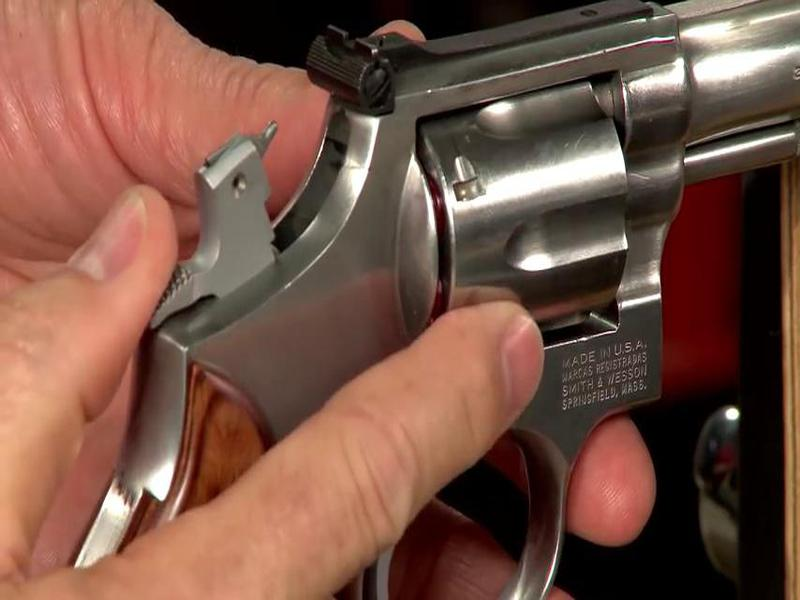Revolver: (176, 9, 800, 565)
